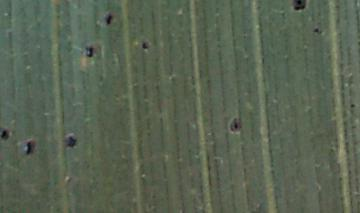tarspot: (228, 116, 242, 133), (291, 1, 306, 12), (66, 135, 77, 149), (24, 141, 34, 156), (84, 46, 95, 58), (104, 14, 113, 26), (1, 128, 9, 141), (140, 41, 149, 50), (348, 102, 356, 109), (312, 27, 320, 33)
